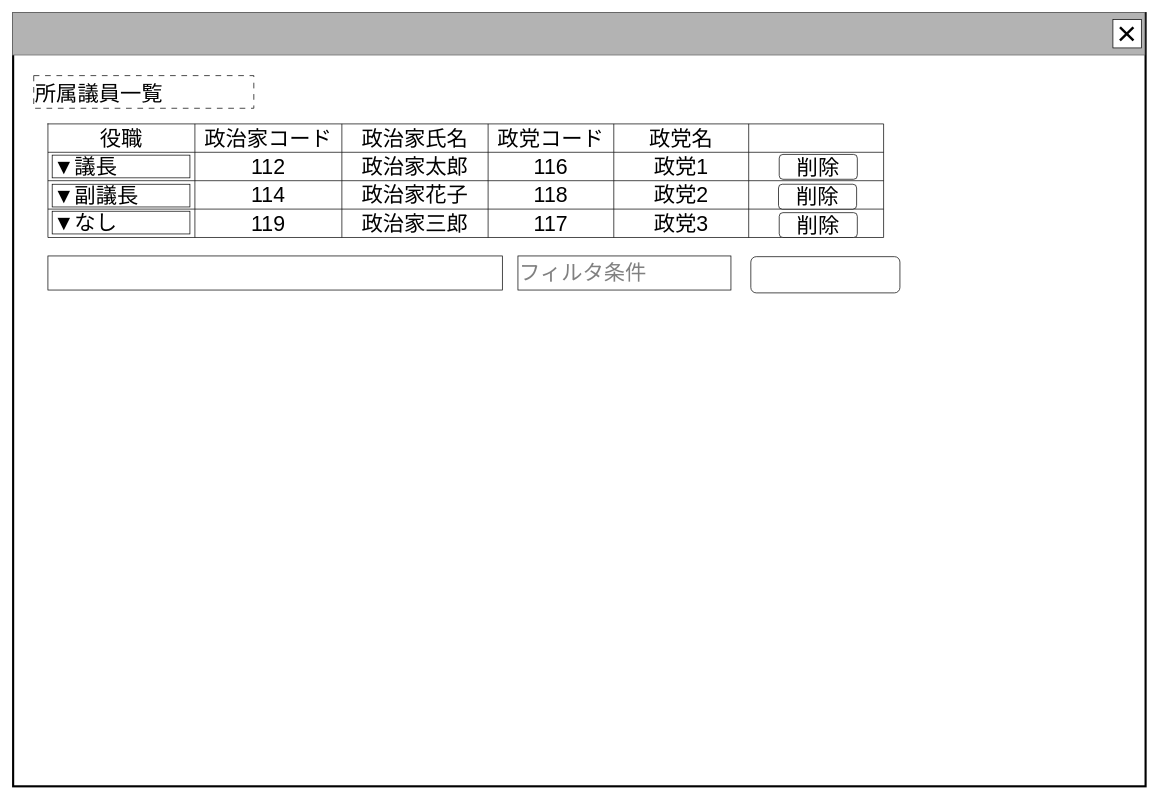
Some shapes in this 1159 by 799 pixel diagram are drawn without their labels. The centre of each missing label's shape, as x and y in pixels:
"▼政治団体 陽子(◆◆選挙区)" belongs at point (274, 272).
"一時追加" belongs at point (825, 274).
